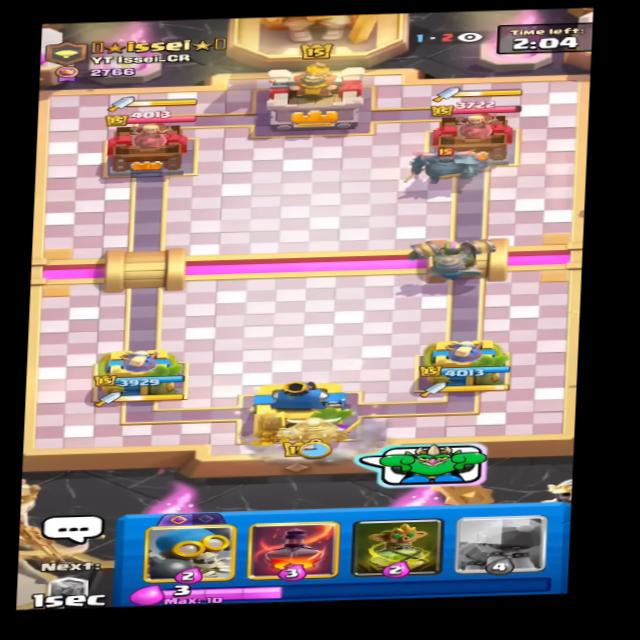Pekka: (403, 142, 495, 187)
